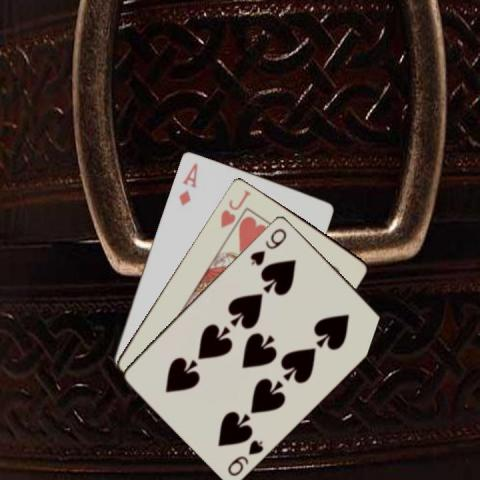9s: (247, 224, 288, 266), (224, 437, 265, 477)
Ad: (175, 160, 199, 207)
Jh: (217, 186, 252, 229)
